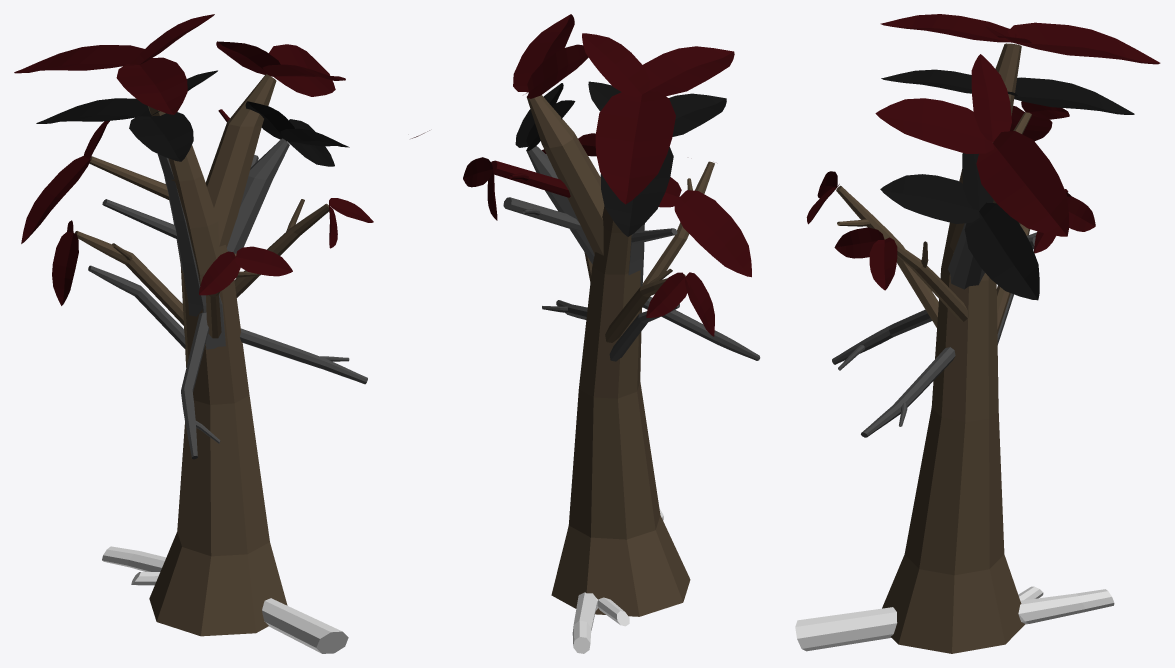
The model's file is Basic Thrower.fbx.
3 views of the same model, side by side, from view 1: azimuth 30°, elevation 25°; view 2: azimuth 150°, elevation 25°; view 3: azimuth 270°, elevation 25° (orthographic). The views are drawn at different scales.
Parts seen in each view (by area): view 1: health, health.001, Throw Branch; view 2: health, health.001, Throw Branch; view 3: health, health.001, Throw Branch.
Boxes of the visible parts, box(x1,y1,x2,y2) form: health: box(14, 14, 373, 636); health.001: box(36, 70, 367, 459); Throw Branch: box(102, 546, 348, 653); health: box(411, 14, 751, 616); health.001: box(503, 81, 760, 361); Throw Branch: box(572, 508, 663, 653); health: box(806, 14, 1160, 653); health.001: box(832, 69, 1134, 437); Throw Branch: box(795, 586, 1114, 651).
Size of the model in its own units: 180 by 301 by 166.
